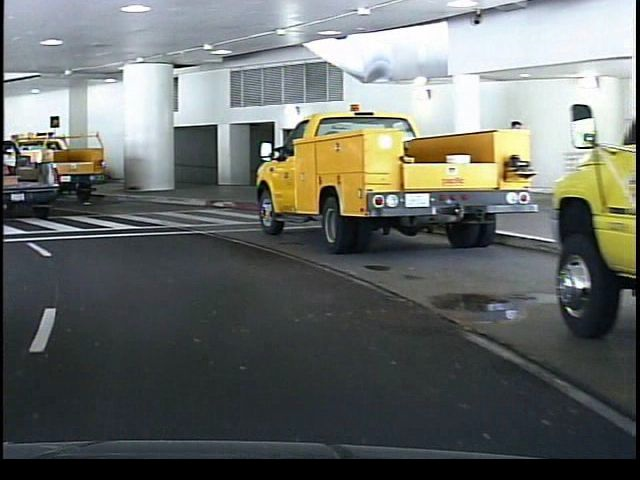person: (495, 113, 528, 218)
